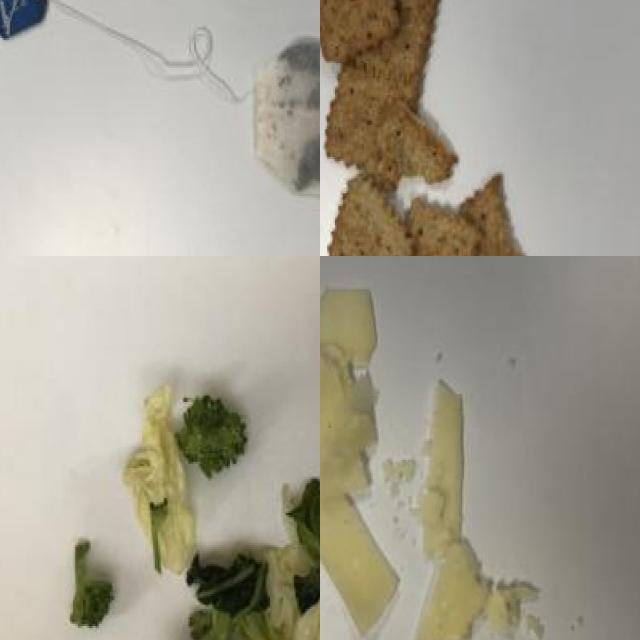compost: (320, 271, 572, 640), (0, 0, 320, 232), (55, 368, 320, 640), (320, 0, 551, 256)
